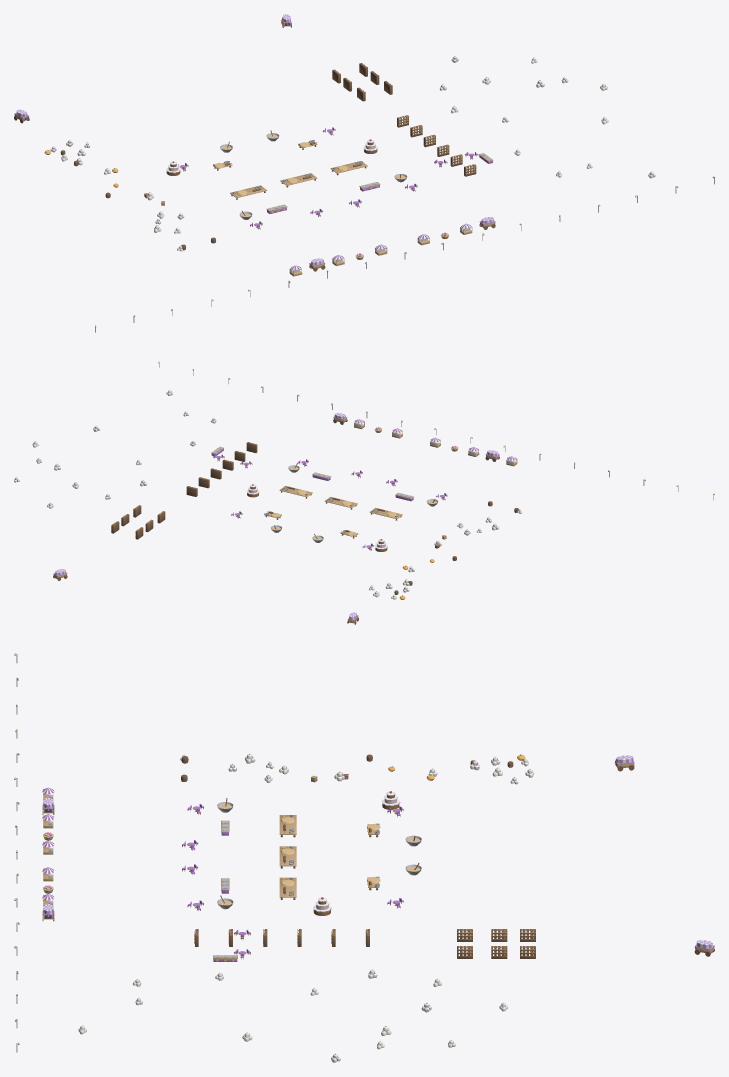
Rendered from HauntedBakery_GameplayProps.fbx.
3 views of the same model, one above another, from view 1: azimuth 30°, elevation 25°; view 2: azimuth 150°, elevation 25°; view 3: azimuth 270°, elevation 25° (orthographic). The views are drawn at different scales.
Size of the model in its own units: 329 by 7.2 by 246.
